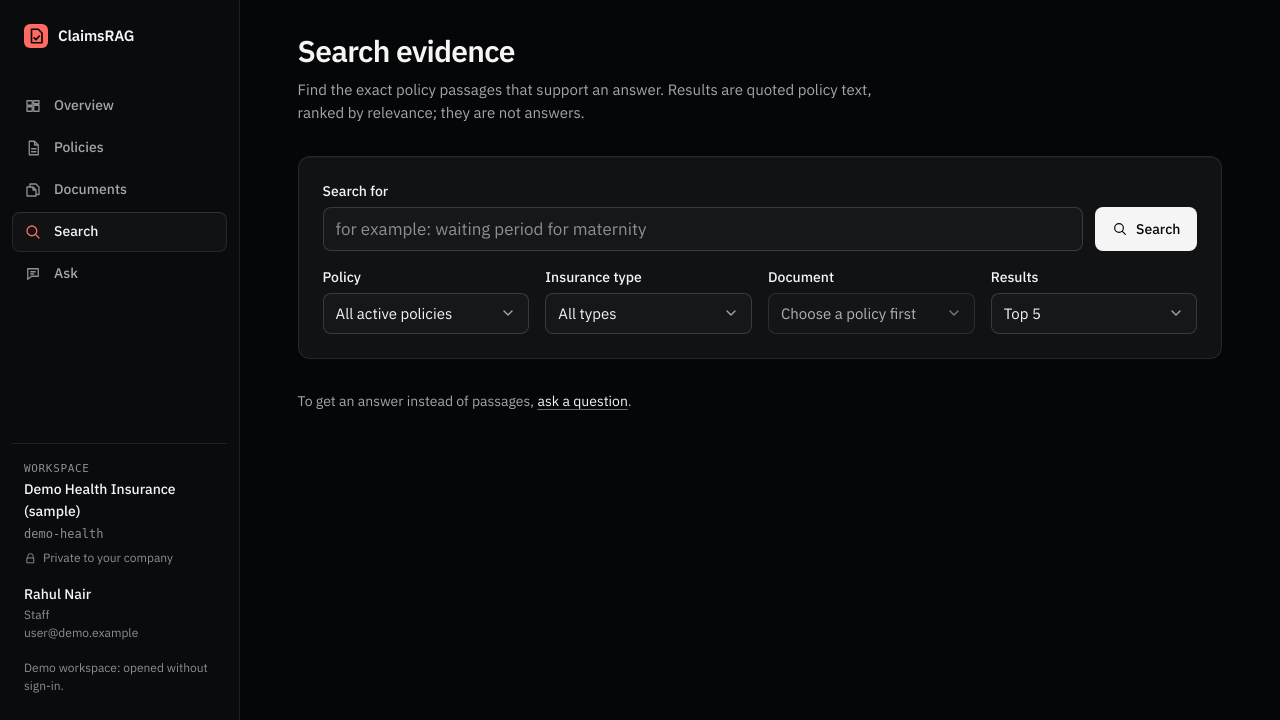
Test: evidence search › narrows to one document of the chosen policy
The width and height of the screenshot is (1280, 720).
Expected: the dropdown labelled "Document" is disabled, [768,293,975,334]
Select "DH-100 Family Health Plus" in the dropdown labelled "Policy" at (426, 313), box [323,293,529,334]
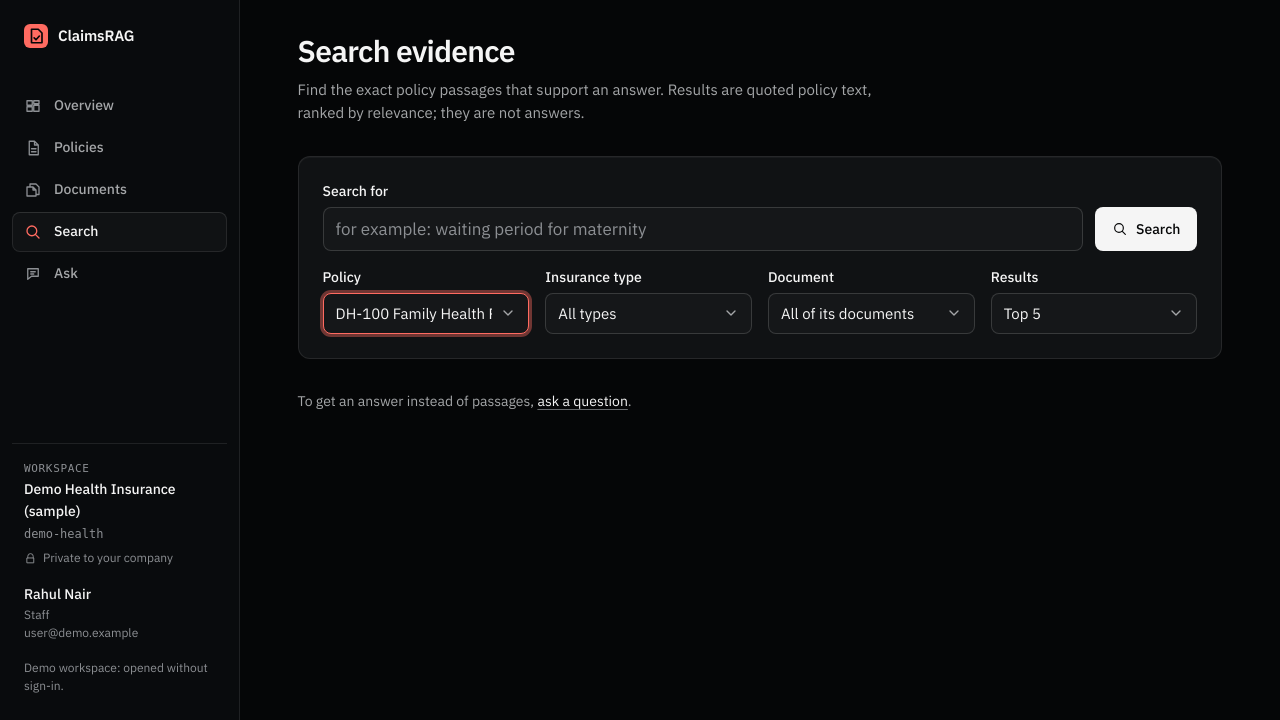
Select "family-health-wording.pdf, version 2" in the dropdown labelled "Document" at (871, 313), box [768,293,975,334]
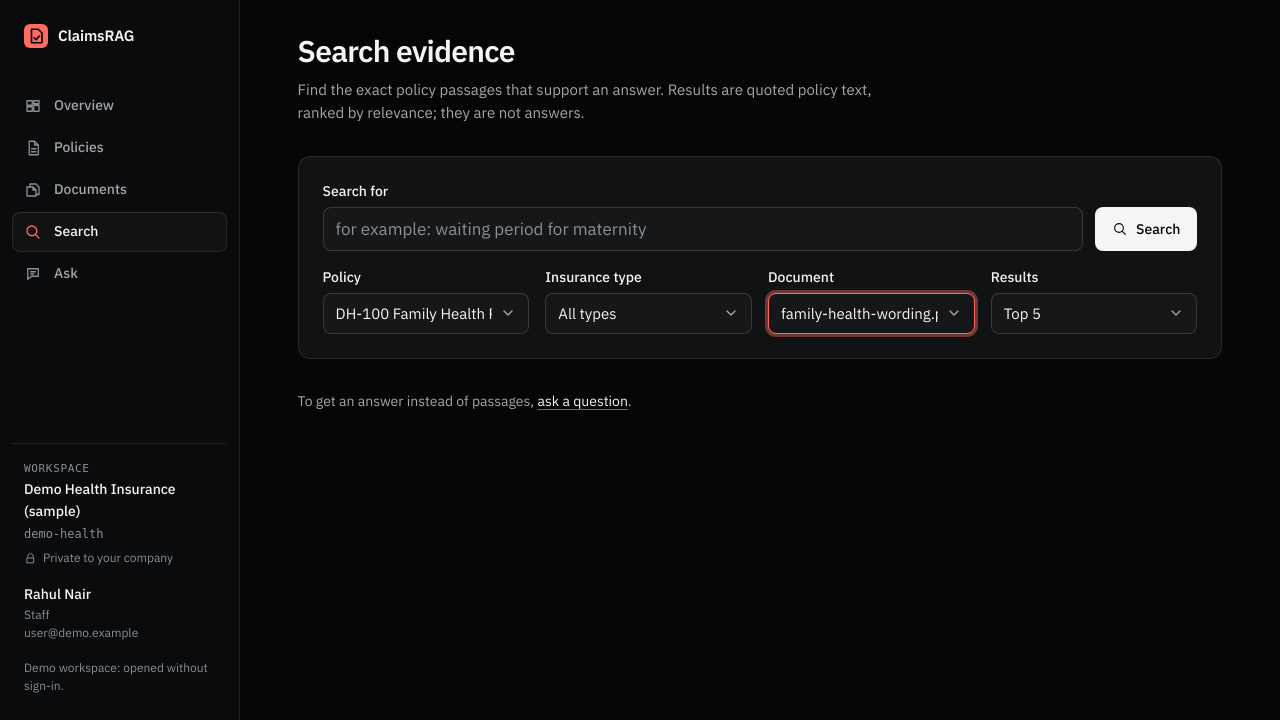
Type "maternity" into the search field labelled "Search for".
click(703, 229); type("maternity")  # box [323,207,1083,251]
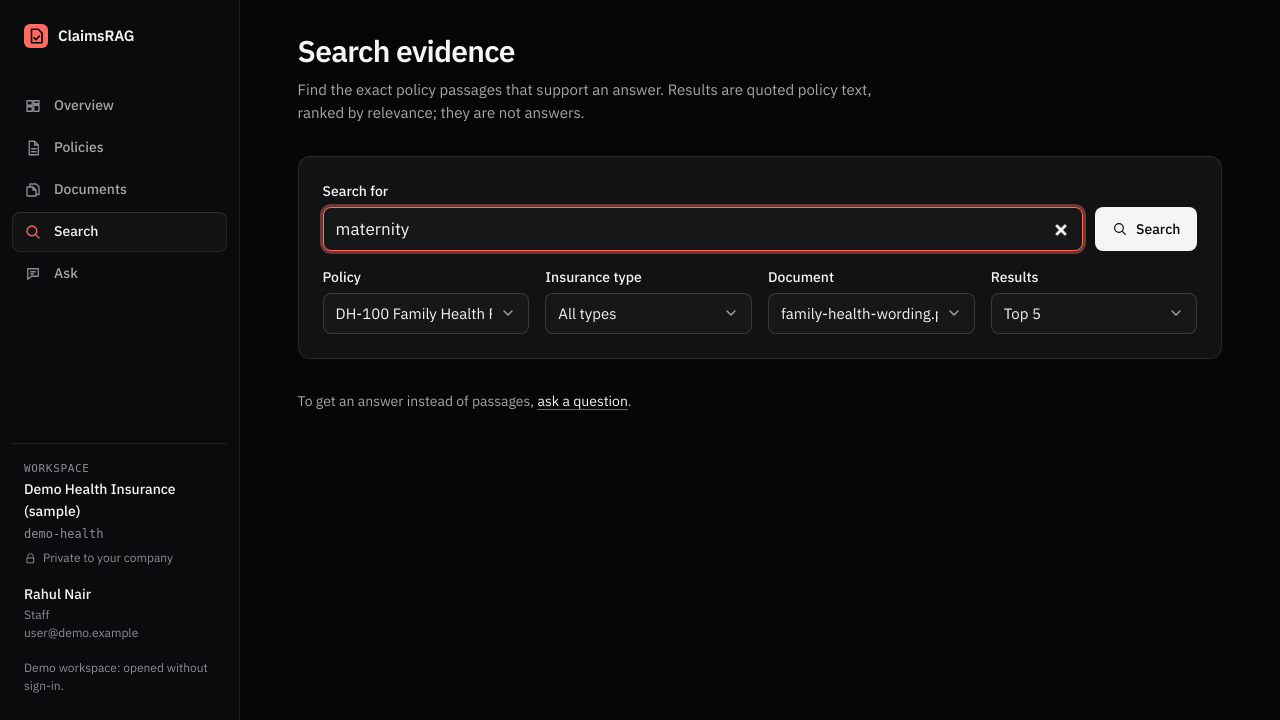
Click the button "Search".
click(1146, 229)  # box [1095,207,1197,251]
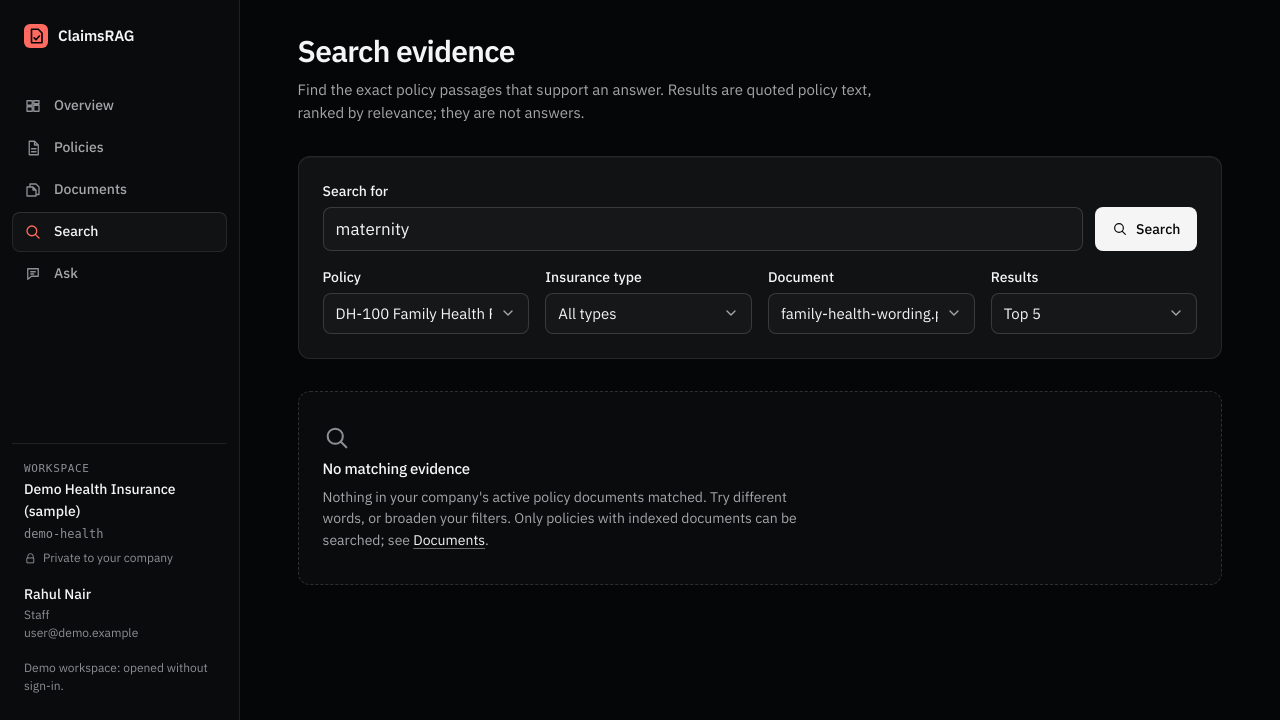
Result: the heading "No matching evidence" is shown at [323,460,470,479]
